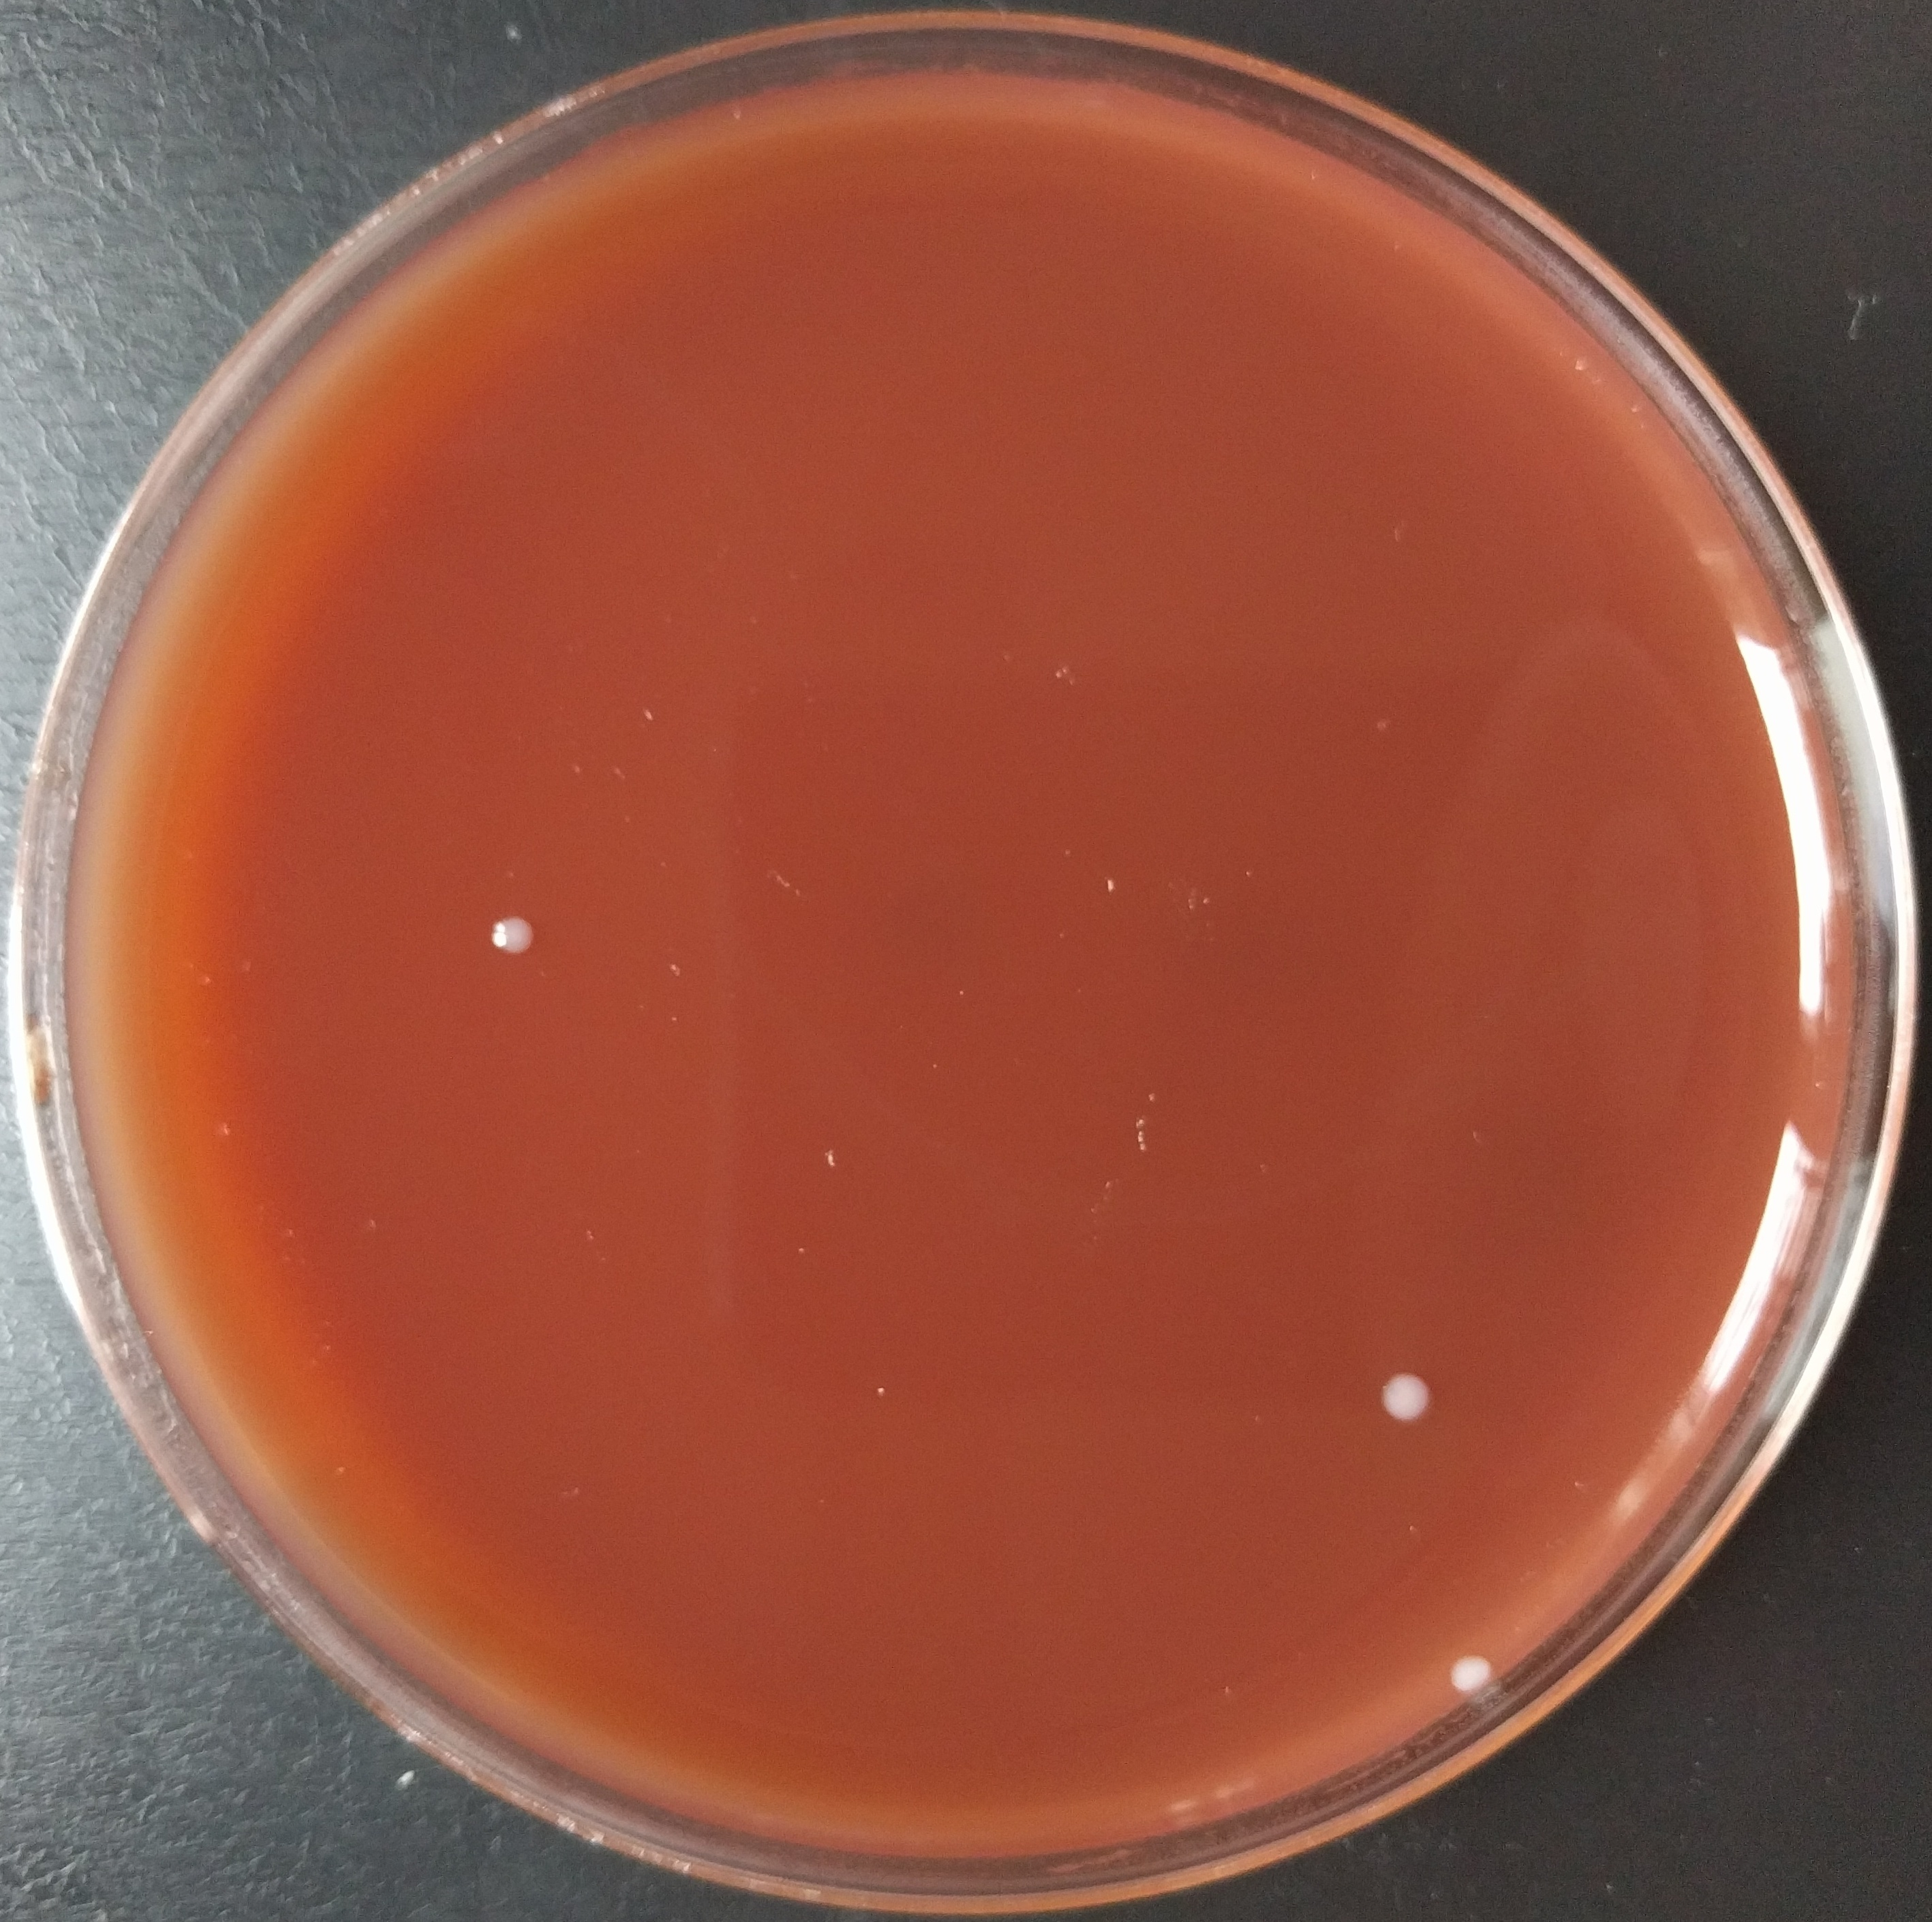sp16: (1372, 1361, 1452, 1429), (477, 901, 549, 973), (1438, 1646, 1506, 1702)
